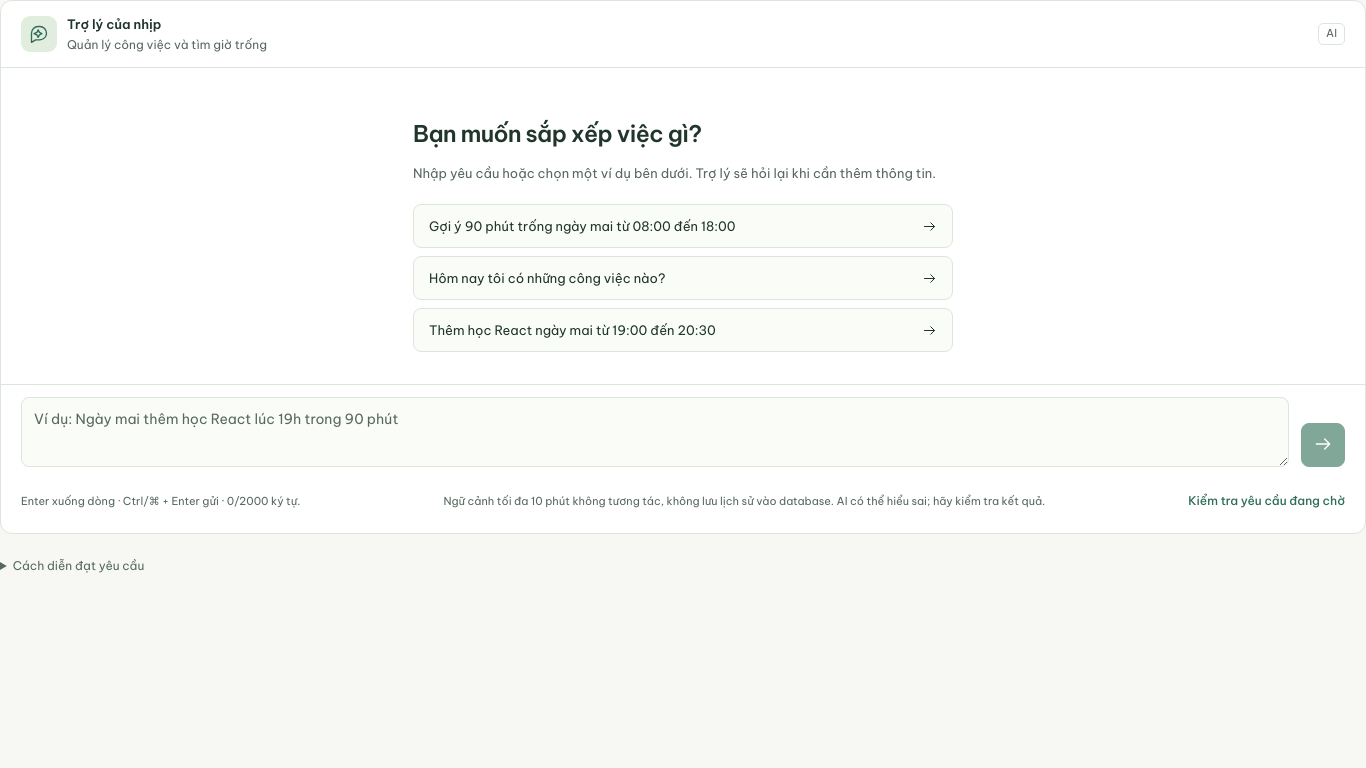
it: clarification carries backend context and choice uses whitelist ID
Type "Xóa học React" into the text box named "Nội dung yêu cầu" at (655, 432), box x1=21 y1=397 x2=1289 y2=467
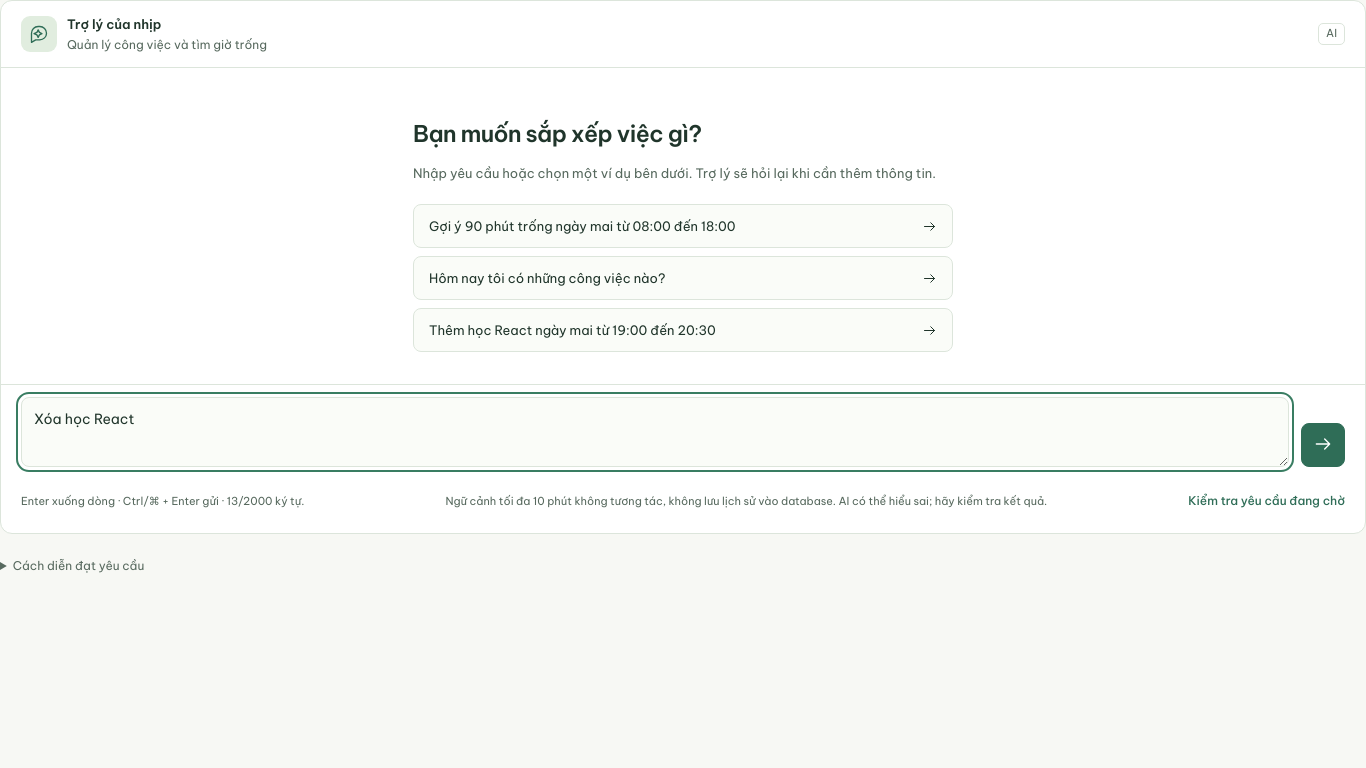
Click the button named "Gửi yêu cầu" at (1323, 445), box x1=1301 y1=423 x2=1345 y2=467
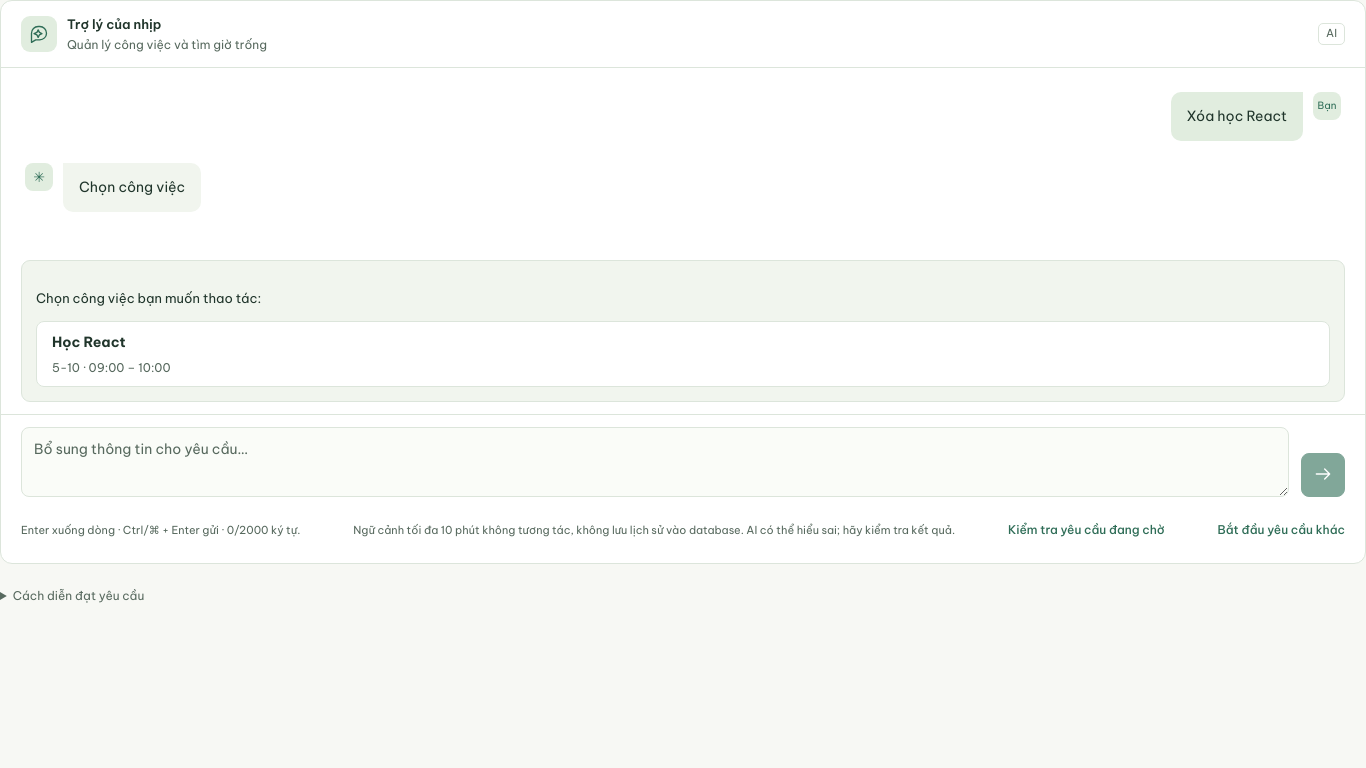
Click the button "Học React 5-10 · 09:00 – 10:00" at (89, 342), box x1=36 y1=321 x2=1330 y2=387
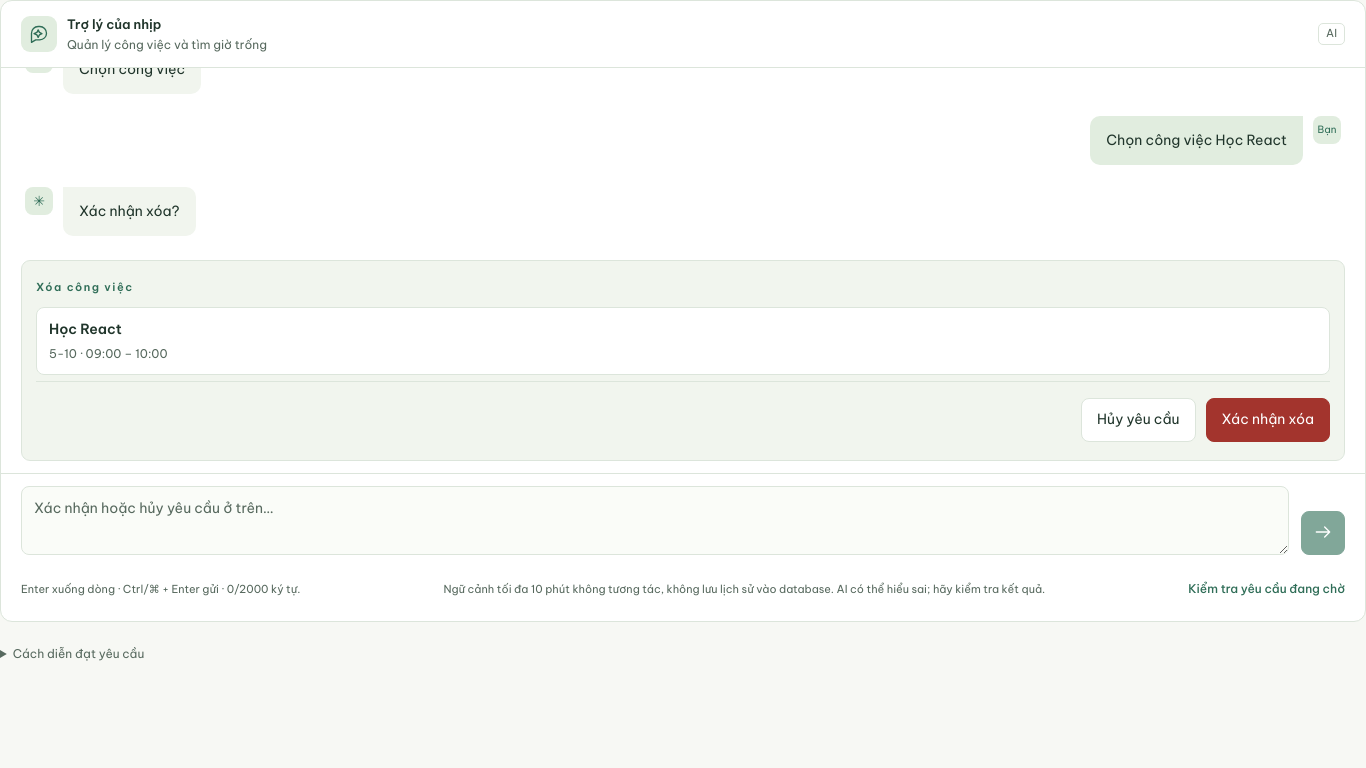
Expected: the text "Xác nhận xóa?" is shown, x1=79 y1=199 x2=180 y2=224
Expected: the text box named "Nội dung yêu cầu" is disabled, x1=21 y1=486 x2=1289 y2=555
Click the button "Hủy yêu cầu" at (1138, 420), box x1=1081 y1=398 x2=1196 y2=442
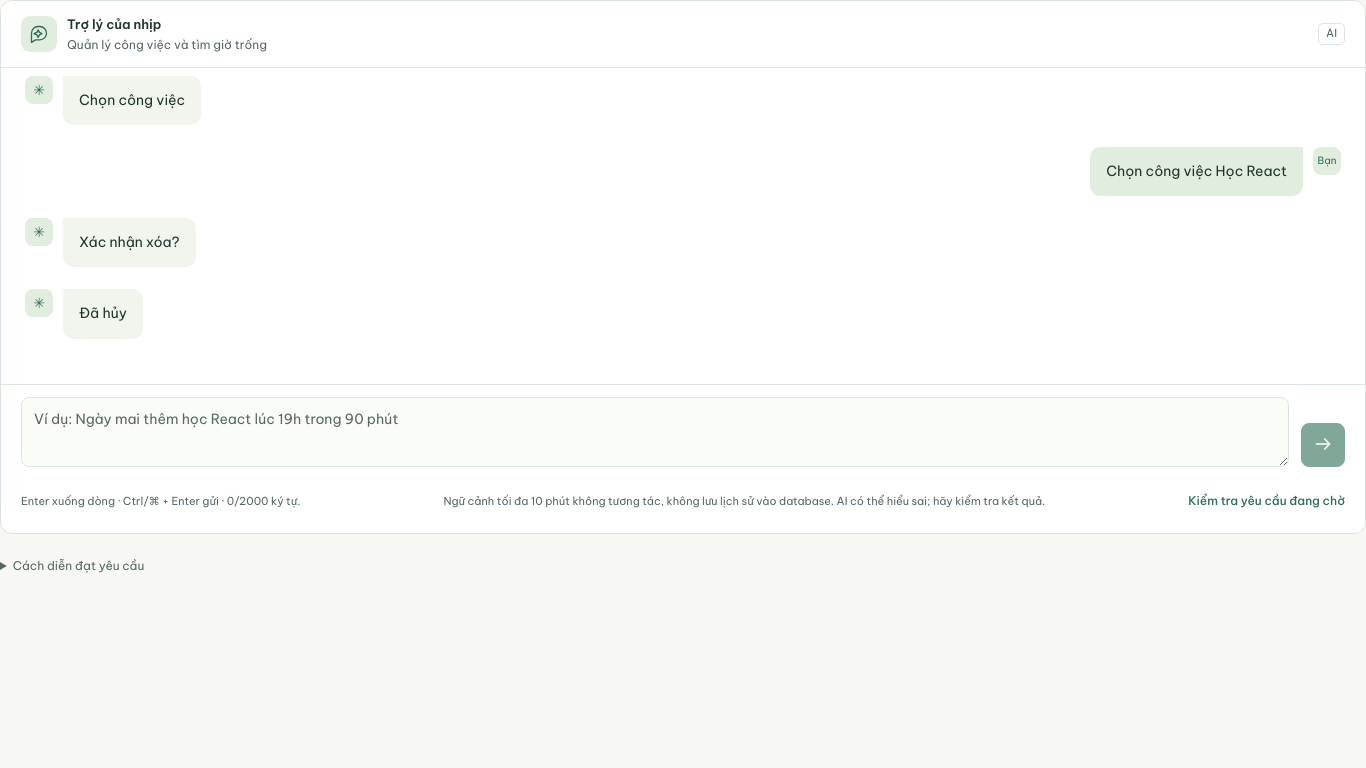
Expected: the text "Đã hủy" is shown, x1=79 y1=301 x2=127 y2=326
Expected: the text box named "Nội dung yêu cầu" is enabled, x1=21 y1=397 x2=1289 y2=467
